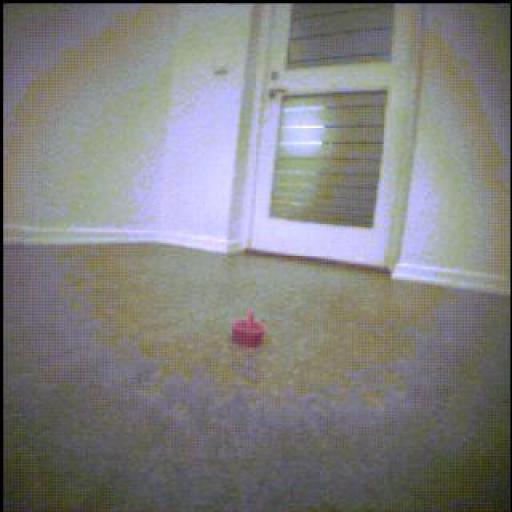Bucket: (233, 310, 265, 348)
